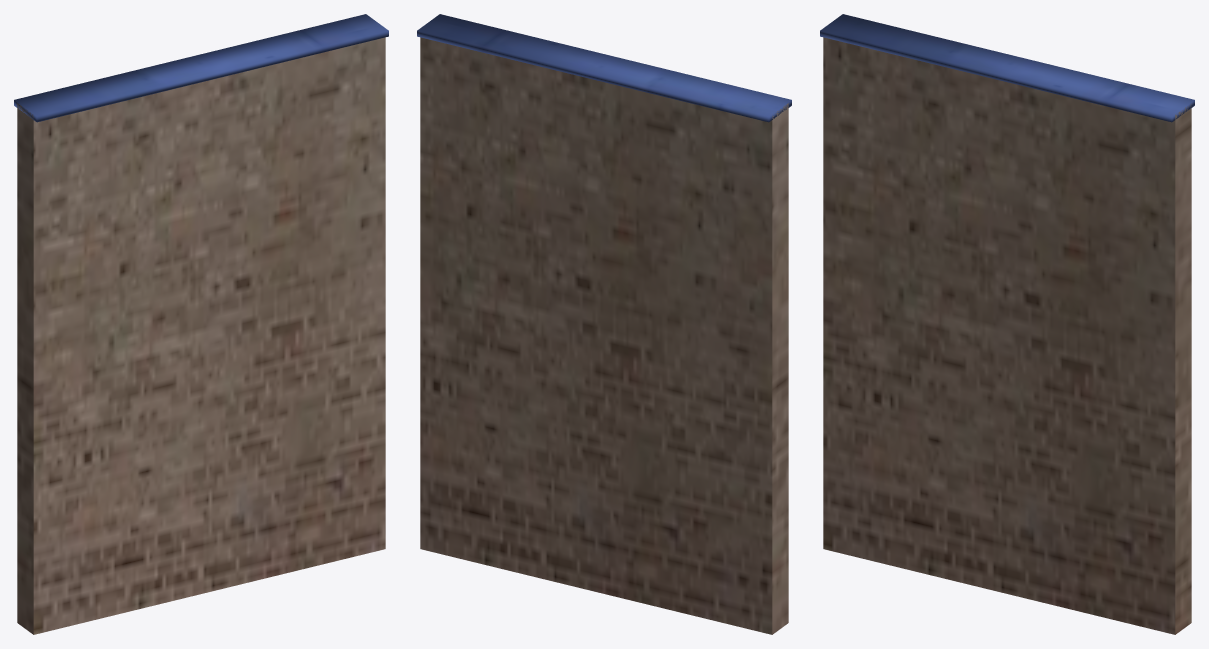
Rendered from Wall_3.glb.
3 renders of one model, left to right at view 1: azimuth 30°, elevation 25°; view 2: azimuth 150°, elevation 25°; view 3: azimuth 330°, elevation 25°, orthographic.
Visible parts, largest first — view 1: Wall_3; view 2: Wall_3; view 3: Wall_3.
Part boxes in pixels (bbox=[...]): Wall_3: bbox=[14, 14, 388, 634]; Wall_3: bbox=[417, 14, 791, 634]; Wall_3: bbox=[820, 14, 1194, 634].
Bounding box in the file's own units: 5.78 × 8.17 × 0.6499.
1 material, 1 textured.
